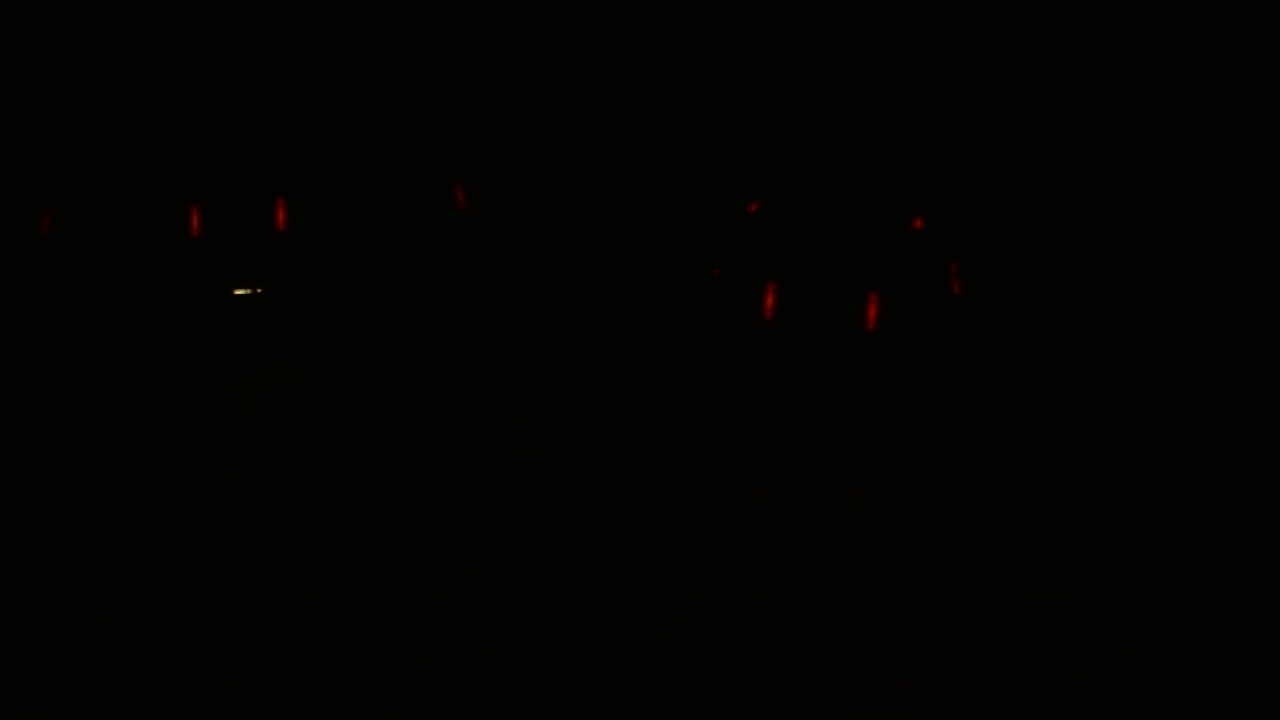pair1: (179, 190, 300, 248)
pair2: (748, 275, 891, 341)
